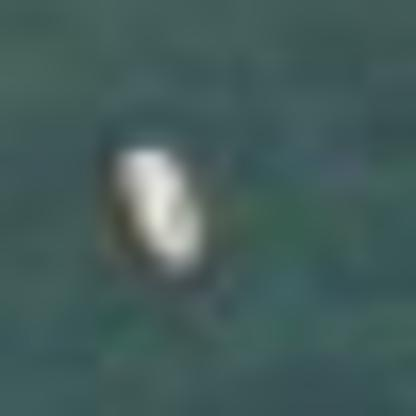ship: (90, 135, 236, 288)
